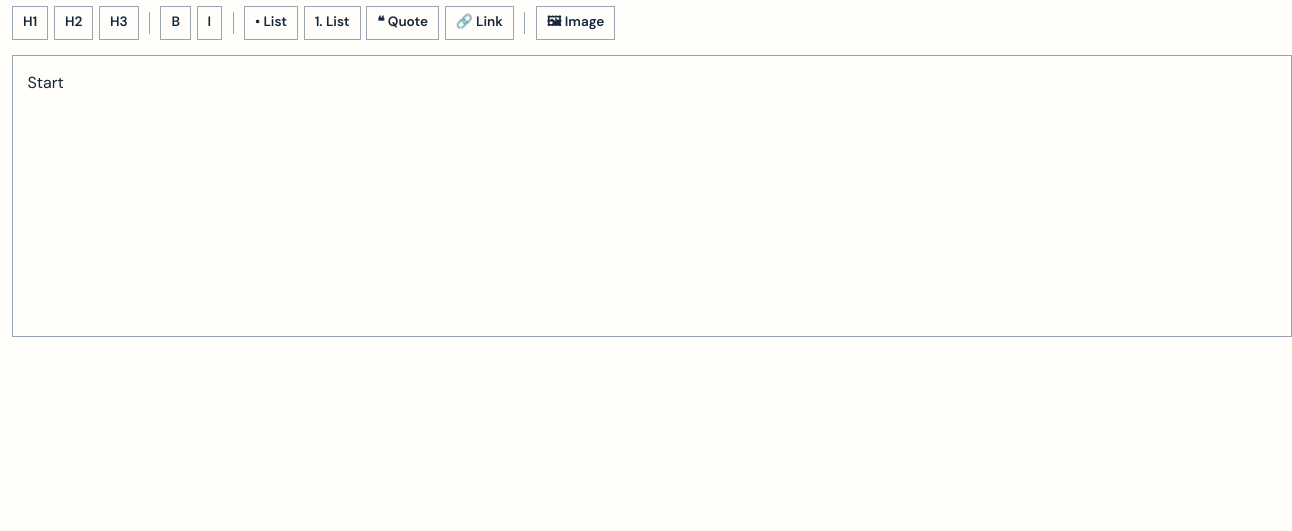
Scenario: RichTextEditor › opens an inline link form instead of a browser prompt
Step 1. Click the button "🔗 Link" → (479, 23), box [445,6,514,40]
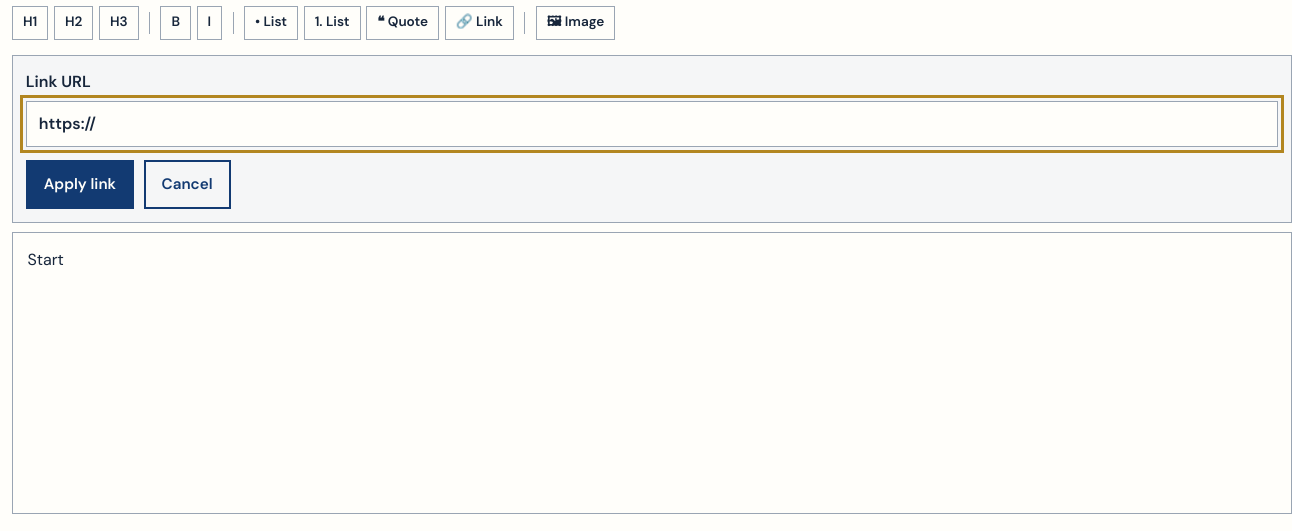
Expected: the field labelled "Link URL" holds "https://", [26,101,1278,147]
